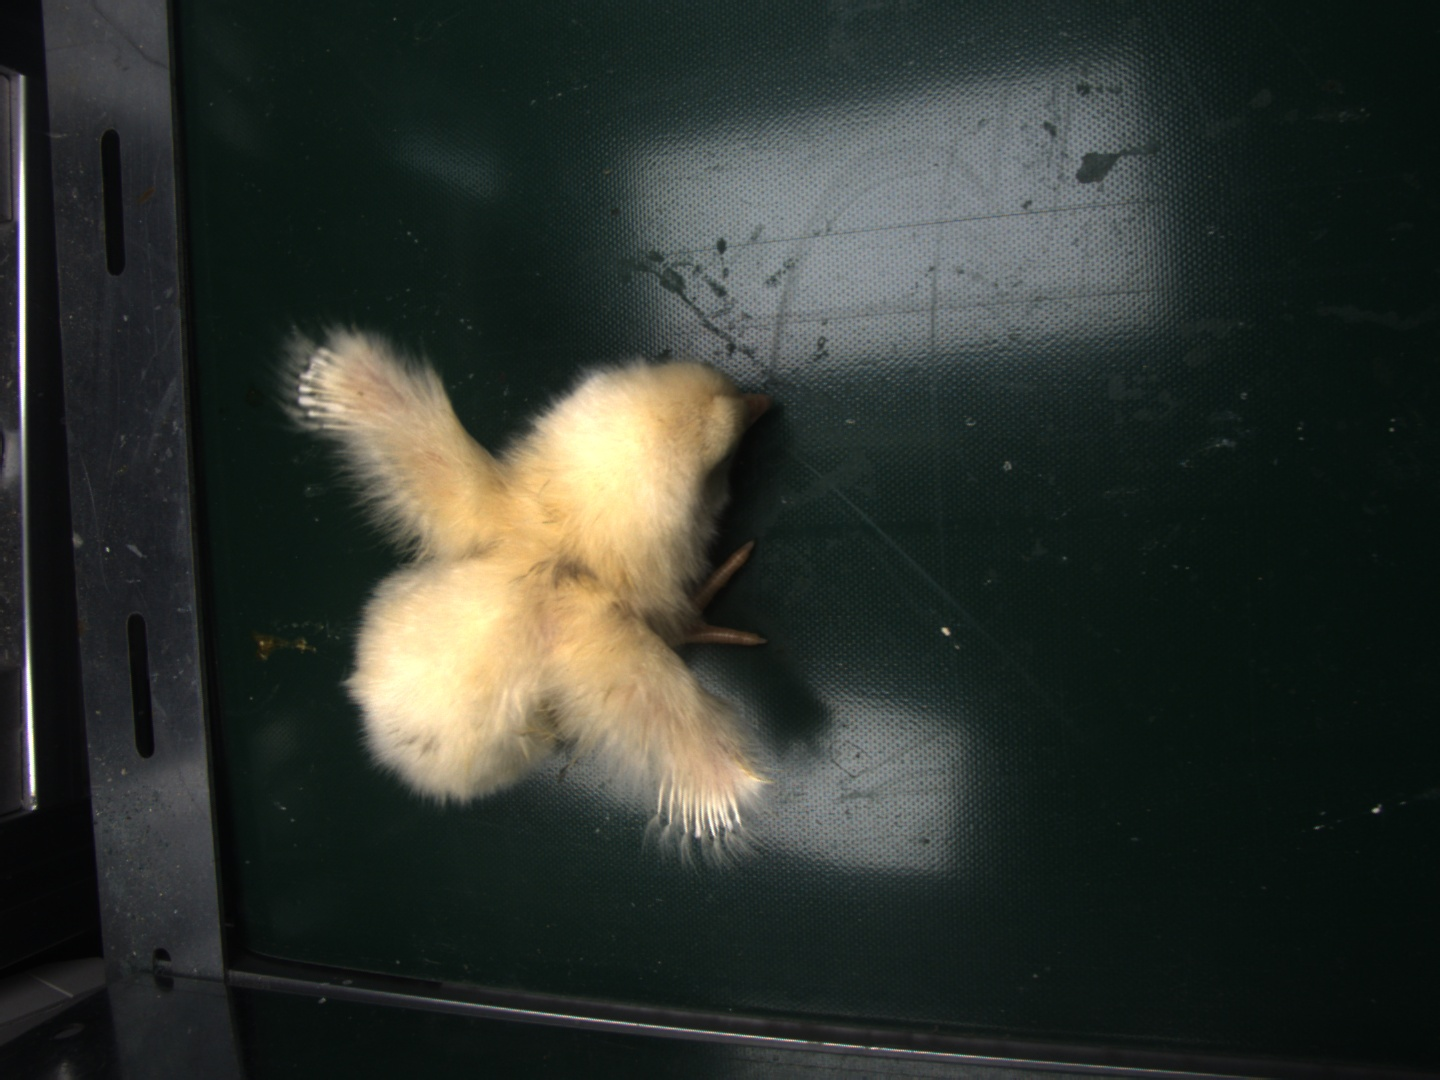male: (659, 774, 746, 838)
